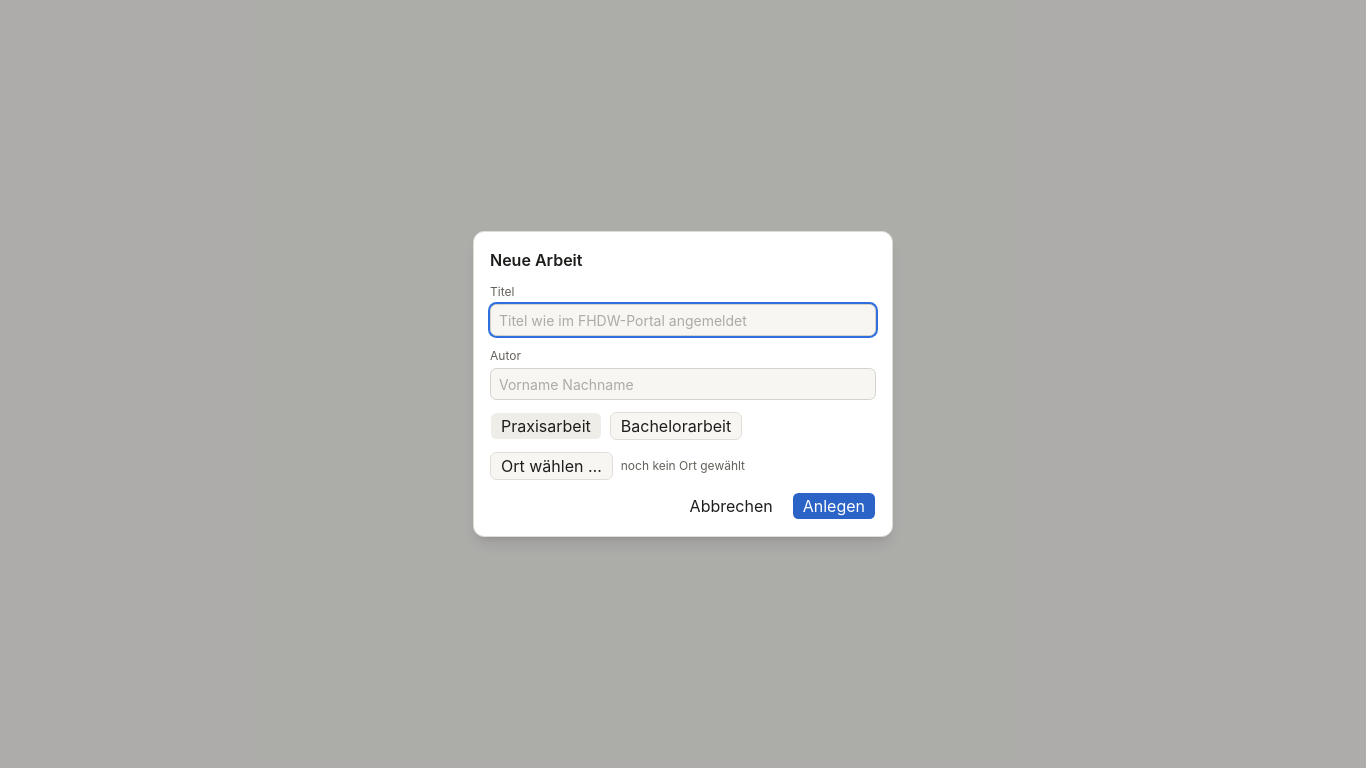
NeueArbeitDialog › verlangt Titel und Ort
The width and height of the screenshot is (1366, 768).
Click the button "Anlegen": point(834, 506) [792, 492, 876, 520]
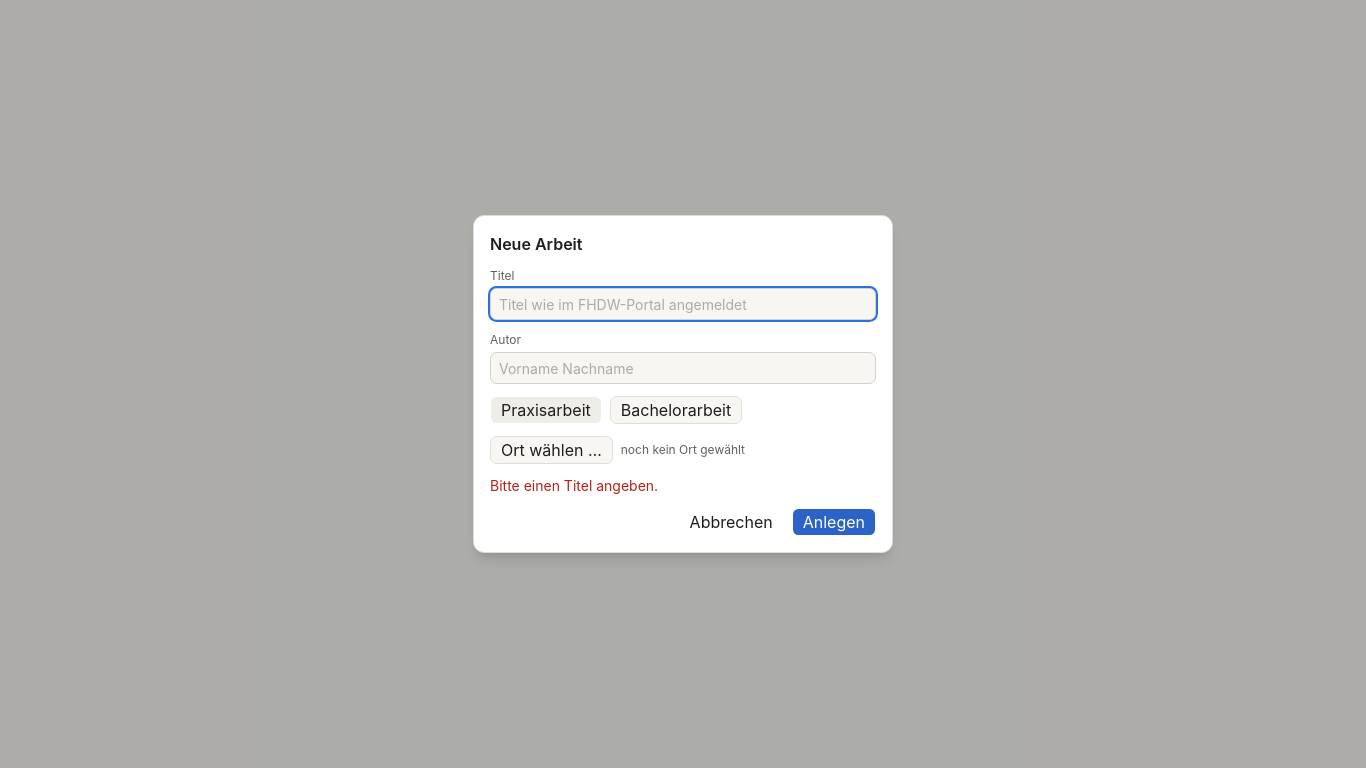
Expected: the message shows "Titel", [490, 477, 658, 494]
In the field with placeholder "Titel wie im FHDW-Portal angemeldet": point(683, 304) [490, 288, 876, 320], type "Mein Titel für Größe"
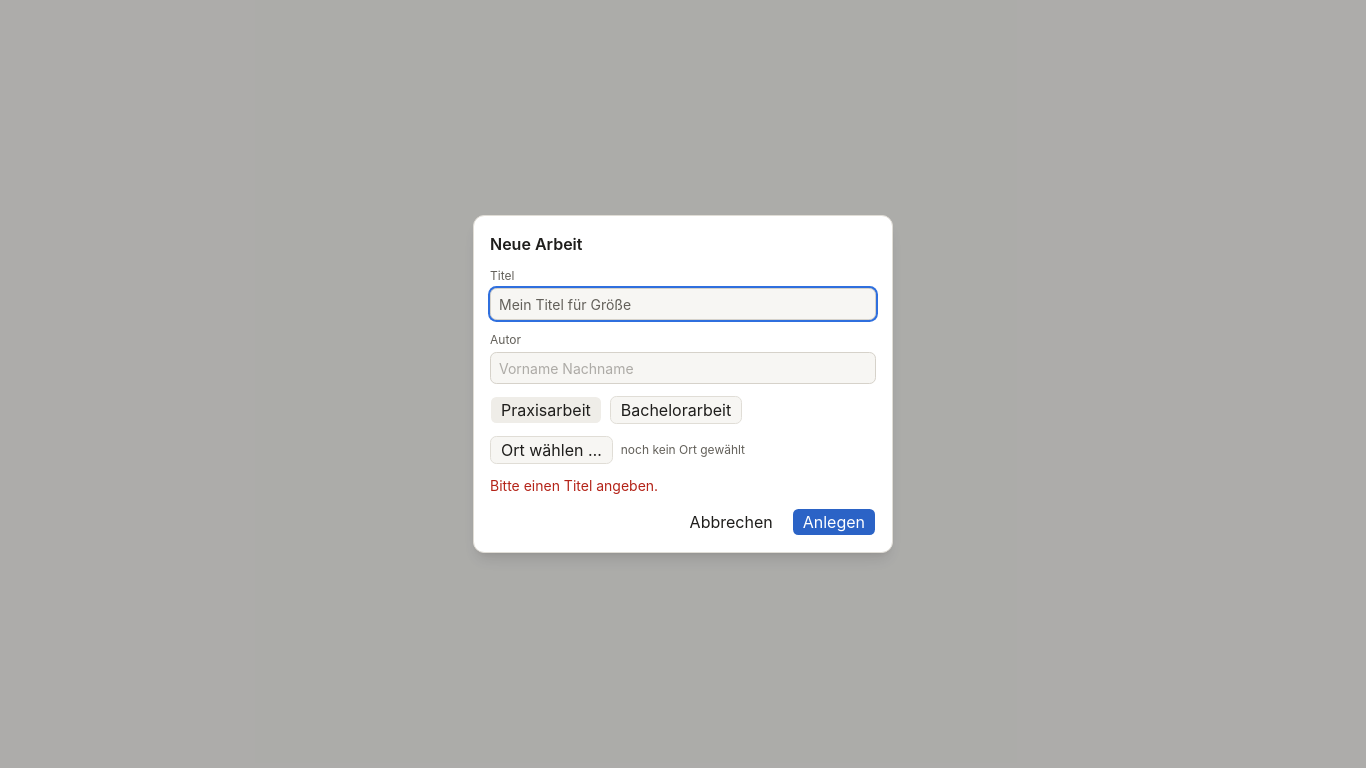
Click the button "Anlegen": point(834, 522) [792, 508, 876, 536]
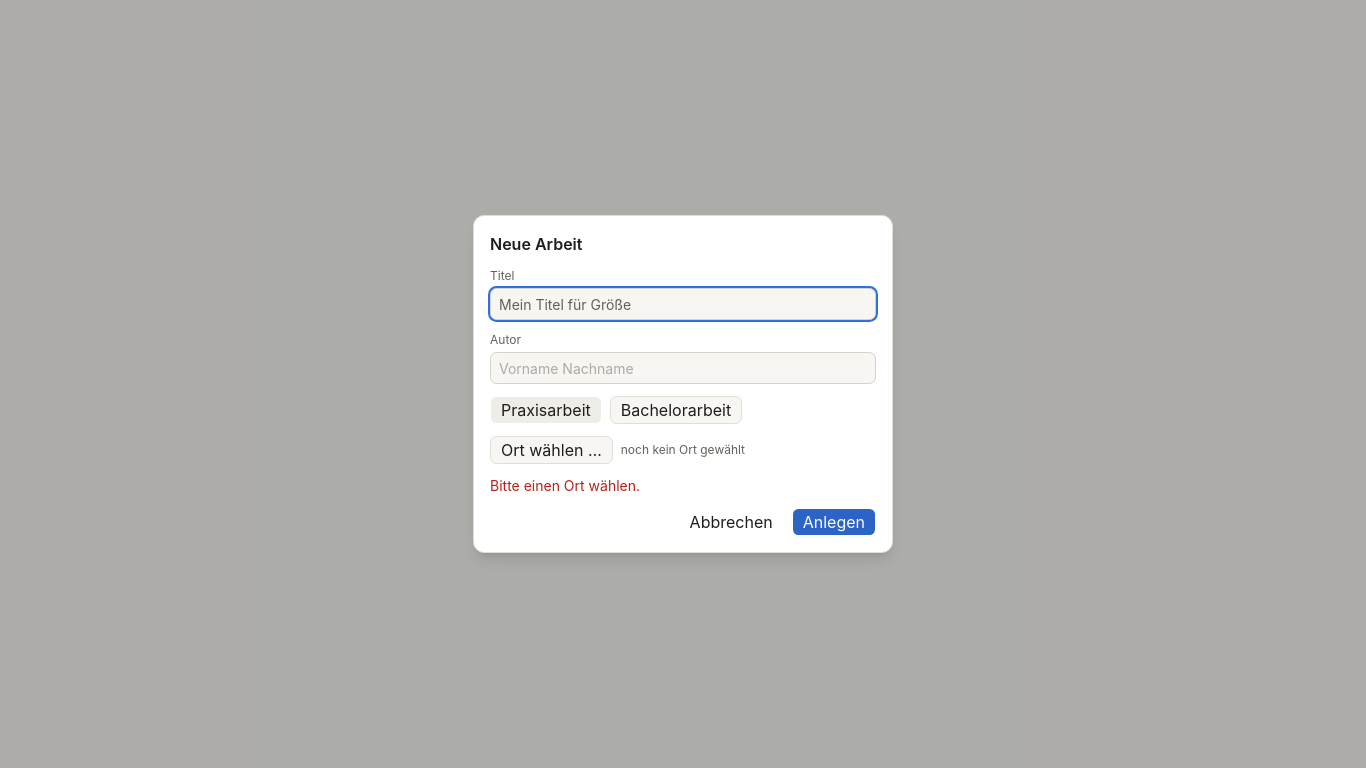
Expected: the message shows "Ort", [490, 477, 640, 494]
